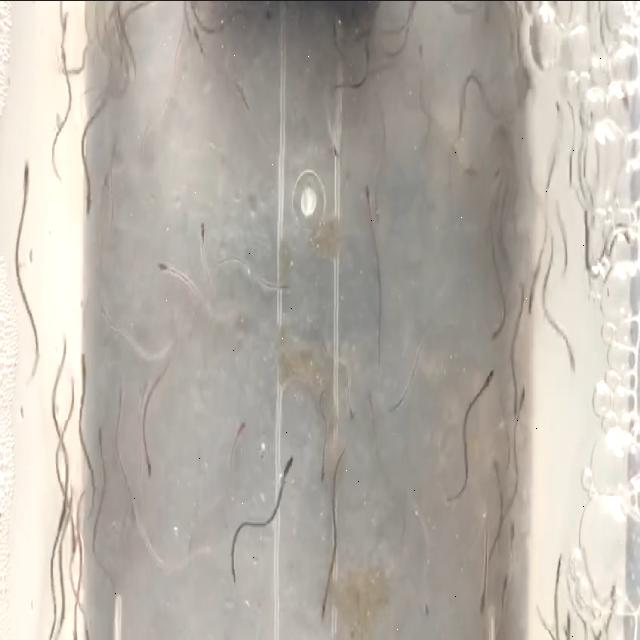active_glass_eel: (190, 200, 210, 264), (614, 74, 634, 118), (13, 154, 32, 200), (90, 295, 114, 331), (78, 176, 94, 230), (486, 450, 504, 498), (324, 123, 342, 167), (190, 20, 207, 64), (362, 177, 376, 230), (56, 8, 70, 60), (70, 513, 83, 569), (605, 576, 623, 616), (232, 412, 248, 456), (138, 439, 152, 487), (273, 270, 295, 300), (494, 566, 509, 608), (551, 93, 565, 137), (280, 453, 296, 491), (420, 587, 436, 625), (110, 379, 126, 417), (562, 341, 578, 377), (78, 348, 92, 389), (370, 180, 382, 226), (329, 15, 343, 53), (345, 374, 357, 418), (525, 274, 537, 318), (514, 385, 528, 422), (157, 247, 173, 279), (615, 220, 632, 250), (56, 332, 66, 382), (552, 551, 563, 596), (77, 613, 95, 640), (477, 590, 489, 630), (478, 364, 494, 394), (256, 0, 275, 24), (320, 592, 334, 624), (416, 32, 426, 74), (360, 35, 373, 66), (317, 453, 329, 485), (507, 506, 519, 538), (95, 422, 105, 458), (492, 156, 502, 192), (98, 172, 110, 200), (388, 398, 402, 422), (65, 629, 82, 640)
